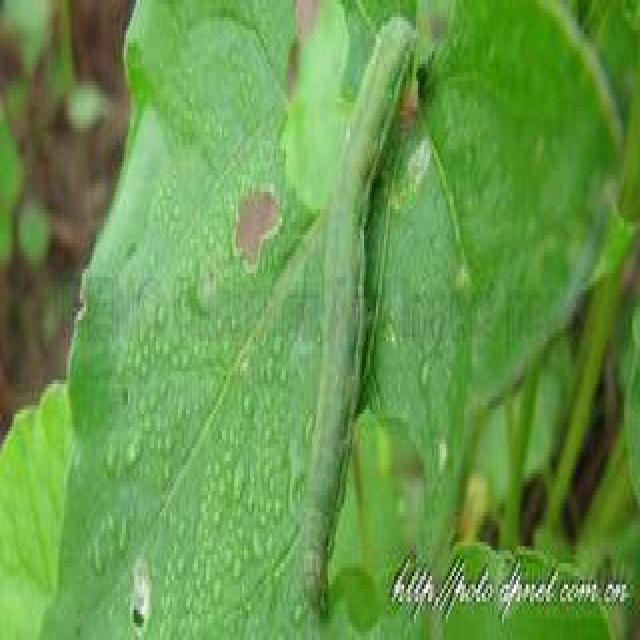BeetArmyWorm-Larva-: (295, 9, 422, 626)
